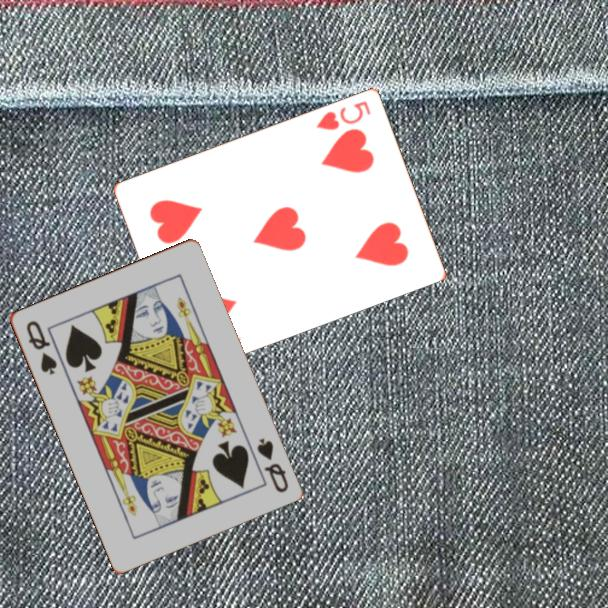h05: (313, 97, 374, 133)
s12: (22, 317, 60, 378), (253, 434, 291, 495)
